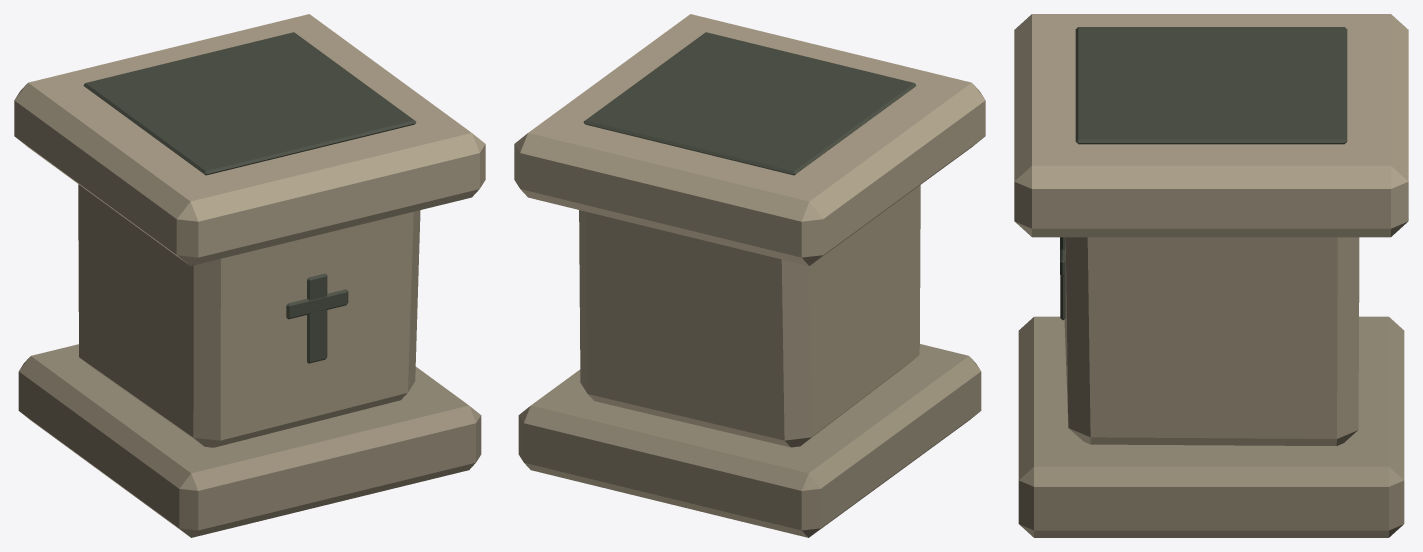
Rendered from tomb-pillar.glb.
The picture shows the model from 3 angles, left to right: view 1: azimuth 30°, elevation 25°; view 2: azimuth 150°, elevation 25°; view 3: azimuth 270°, elevation 25°; orthographic projection. The views are drawn at different scales.
Parts seen in each view (by area): view 1: Tomb column, Tomb capital, Tomb plinth, Recessed top, Tomb inset cross, Tomb inset cross.001; view 2: Tomb column, Tomb capital, Tomb plinth, Recessed top; view 3: Tomb column, Tomb capital, Tomb plinth, Recessed top.
Part boxes in pixels (x1,y1,x2,y2): Tomb column: [78, 184, 420, 447]; Tomb capital: [14, 14, 485, 265]; Tomb plinth: [18, 344, 481, 537]; Recessed top: [83, 32, 416, 175]; Tomb inset cross: [307, 273, 327, 363]; Tomb inset cross.001: [286, 289, 348, 319]; Tomb column: [579, 185, 920, 447]; Tomb capital: [514, 14, 985, 265]; Tomb plinth: [518, 344, 981, 537]; Recessed top: [583, 32, 916, 175]; Tomb column: [1064, 237, 1359, 446]; Tomb capital: [1014, 14, 1408, 237]; Tomb plinth: [1018, 316, 1404, 537]; Recessed top: [1075, 27, 1347, 144].
Size of the model in its own units: 0.9 by 0.957 by 0.9.
